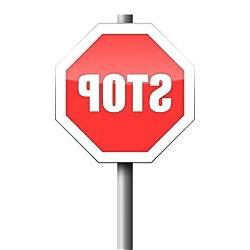Stop: (56, 15, 195, 248), (67, 35, 184, 151)
